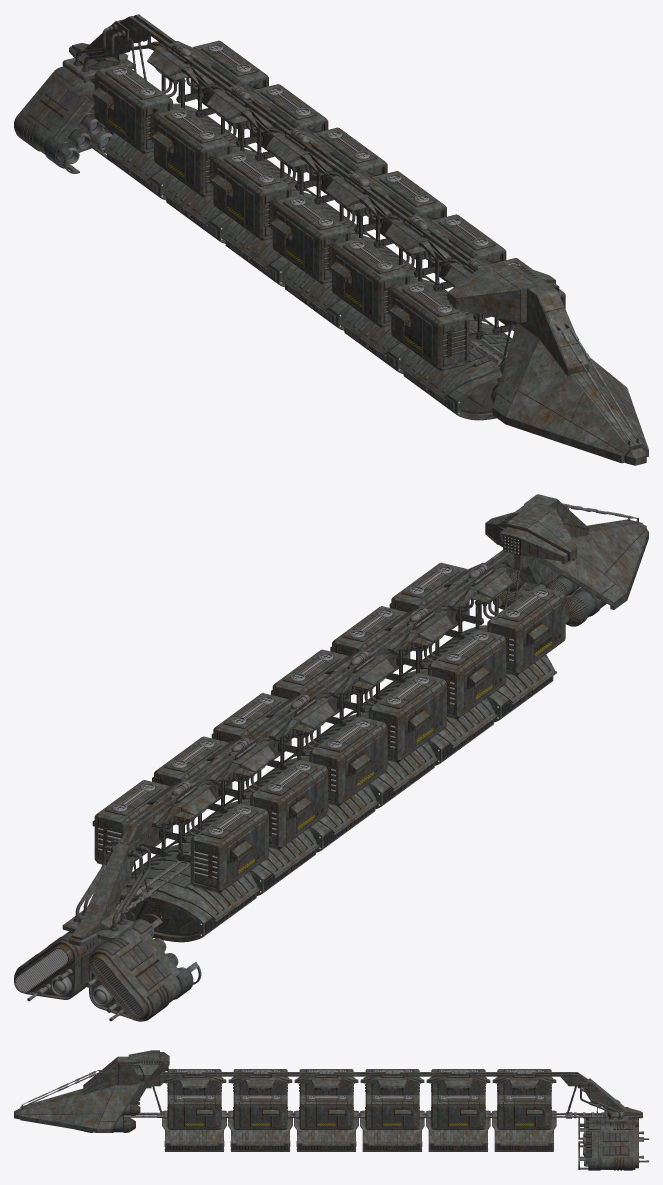
File: perseus.glb
3 views of the same model, one above another, from view 1: azimuth 30°, elevation 25°; view 2: azimuth 150°, elevation 25°; view 3: azimuth 270°, elevation 25° (orthographic). The views are drawn at different scales.
Parts seen in each view (by area): view 1: Object_10, Object_15, Object_18, Object_8, Object_6, Object_13, Object_3, Object_19; view 2: Object_10, Object_18, Object_8, Object_13, Object_15, Object_6, Object_3, Object_19, Object_16; view 3: Object_10, Object_18, Object_15, Object_8, Object_6, Object_13, Object_19, Object_3, Object_16, Object_20.
Part boxes in pixels (x1,y1,x2,y2): Object_10: [92, 40, 565, 370]; Object_15: [447, 261, 648, 465]; Object_18: [100, 14, 507, 366]; Object_8: [103, 103, 511, 400]; Object_6: [107, 137, 501, 420]; Object_13: [14, 66, 113, 173]; Object_3: [154, 67, 515, 340]; Object_19: [62, 19, 516, 359]; Object_10: [92, 562, 565, 892]; Object_18: [116, 550, 516, 917]; Object_8: [125, 625, 556, 922]; Object_13: [14, 909, 201, 1021]; Object_15: [485, 494, 648, 609]; Object_6: [118, 659, 553, 942]; Object_3: [140, 589, 505, 862]; Object_19: [62, 559, 580, 946]; Object_16: [492, 570, 606, 626]; Object_10: [167, 1069, 551, 1129]; Object_18: [124, 1071, 607, 1118]; Object_15: [14, 1050, 169, 1132]; Object_8: [162, 1110, 556, 1145]; Object_6: [164, 1129, 553, 1151]; Object_13: [578, 1115, 648, 1170]; Object_19: [121, 1078, 642, 1125]; Object_3: [181, 1085, 537, 1094]; Object_16: [75, 1099, 140, 1132]; Object_20: [185, 1123, 533, 1125].
Bounding box in the file's own units: 33.97 × 38.44 × 232.
Materials: 15 (15 with a texture image).
